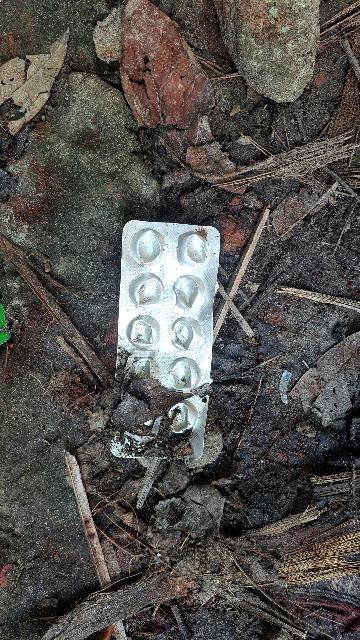medicine: (104, 213, 224, 469)
